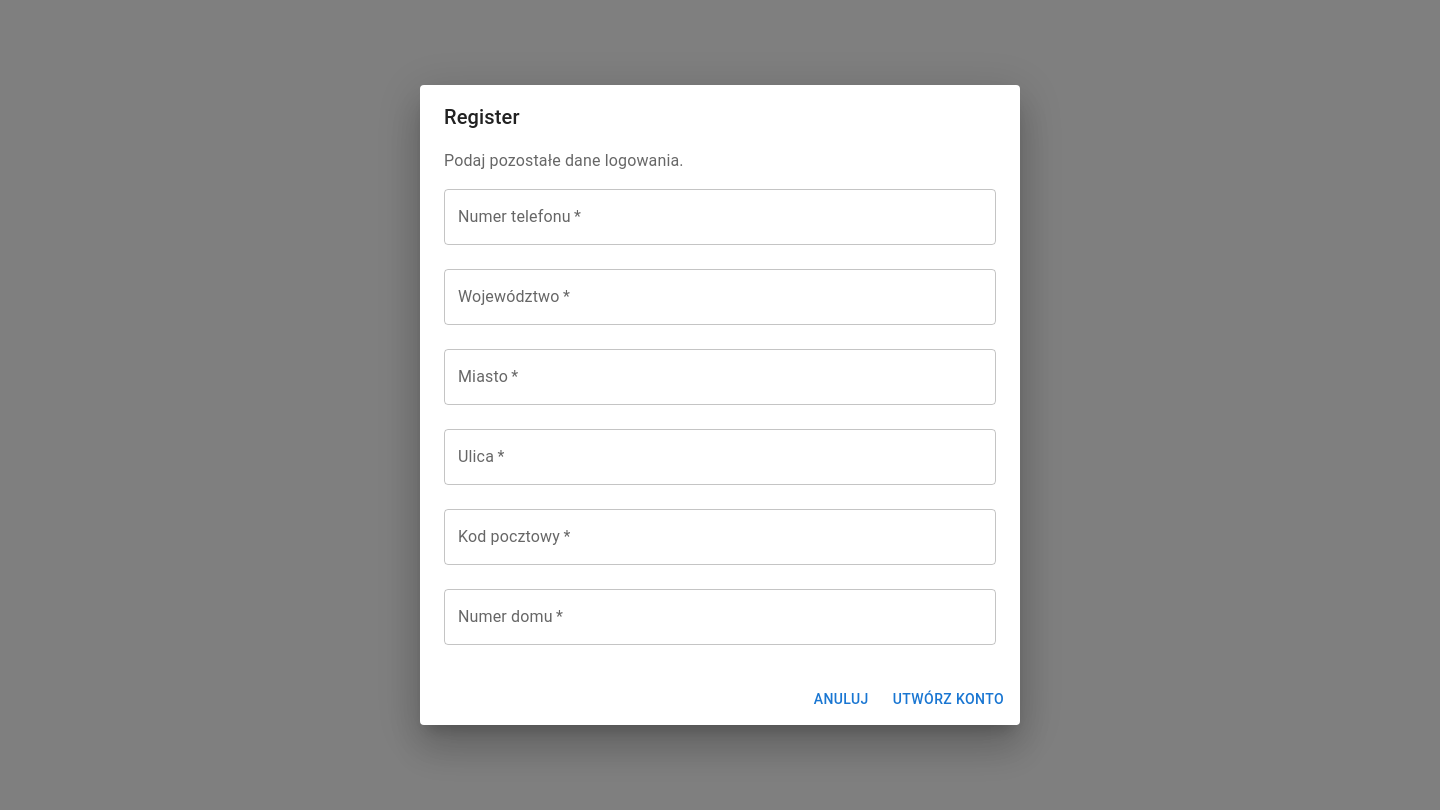
Test: FacebookRegisterDialog › displays error messages when form fields are empty
This screenshot has width=1440, height=810.
What coordinates should you click on to do the following:
click the button "Utwórz konto"
I would click on:
 (948, 699)
Its box is [885, 681, 1012, 717].
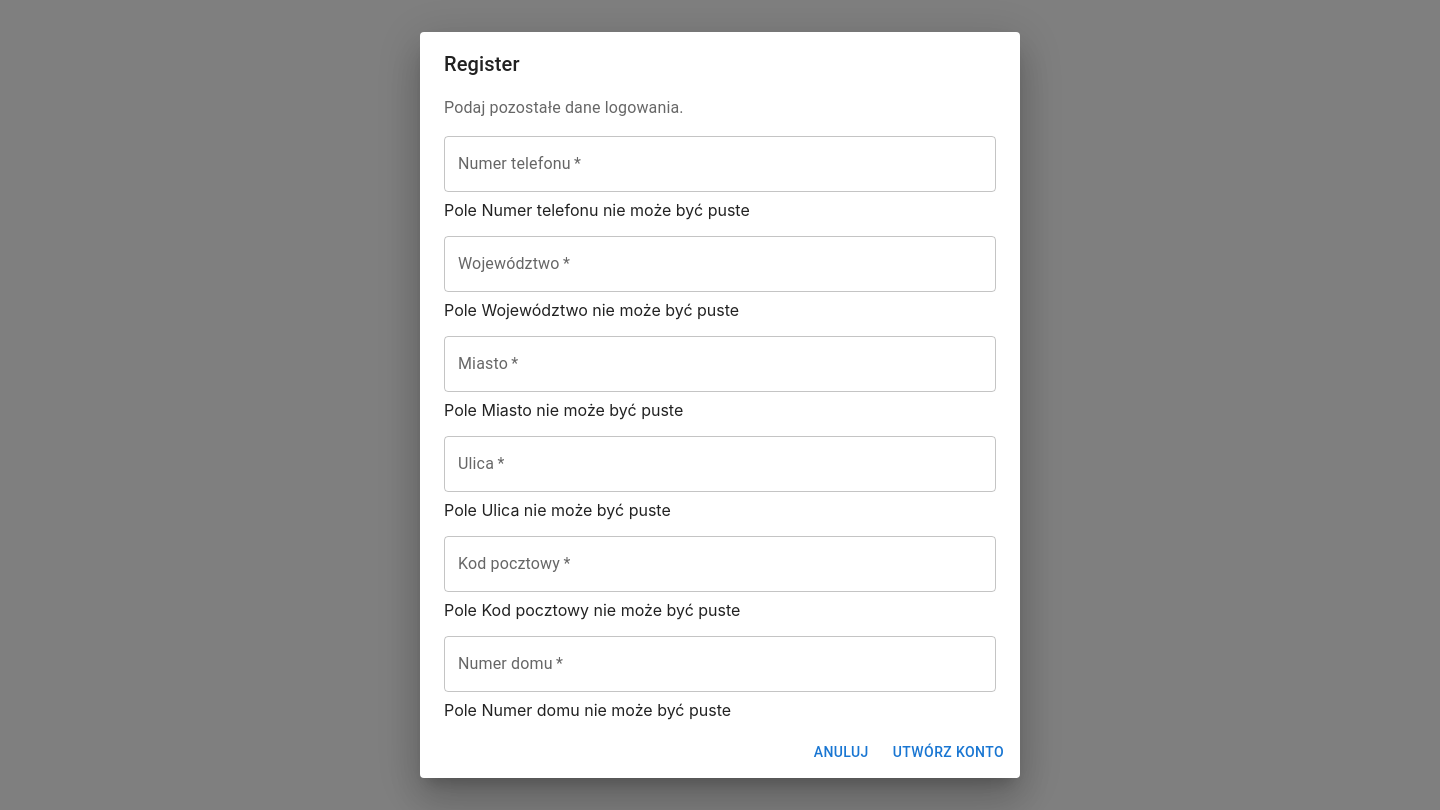
Now the text "Pole Numer telefonu nie może być puste" is shown, box [444, 200, 750, 220]
Now the text "Pole Województwo nie może być puste" is shown, box [444, 300, 739, 320]
Now the text "Pole Miasto nie może być puste" is shown, box [444, 400, 683, 420]
